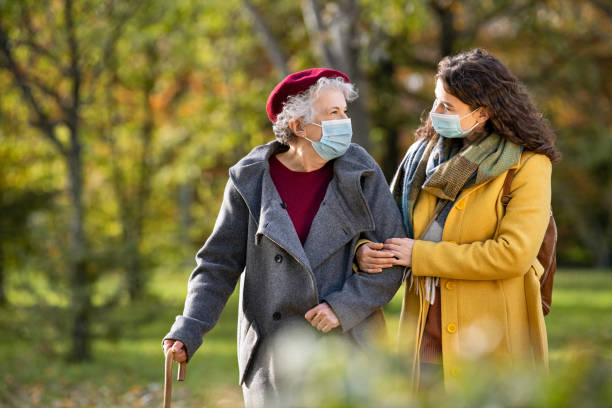with mask: (282, 80, 356, 161), (423, 64, 485, 140)
